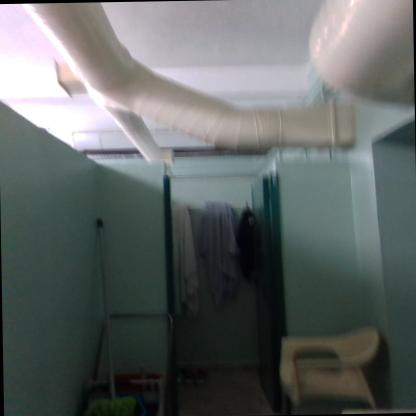open: (155, 154, 292, 400)
